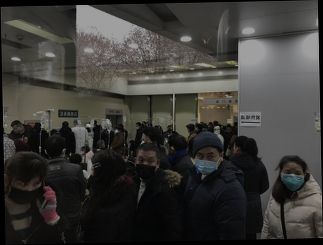with_mask: (8, 178, 45, 206), (193, 150, 220, 177), (279, 167, 306, 193), (135, 153, 157, 181), (12, 126, 22, 135), (114, 128, 119, 136), (192, 126, 198, 132), (79, 149, 84, 156), (134, 125, 139, 130)
without_mask: (226, 127, 232, 134)
